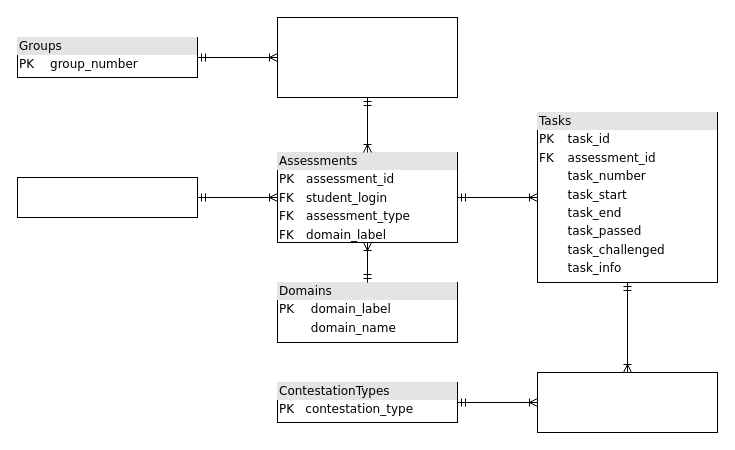
This 735x450 diagram has some shape labels left out. The box of each missing label's shape, as (x1, y1, x2, y2) in pixels:
AssessmentTypes PK assessment_type: (16, 176, 198, 218)
Contestations PK,FK task_id FK contestation_type: (536, 372, 718, 432)
Students PK student_login student_name FK group_number: (276, 16, 458, 98)
